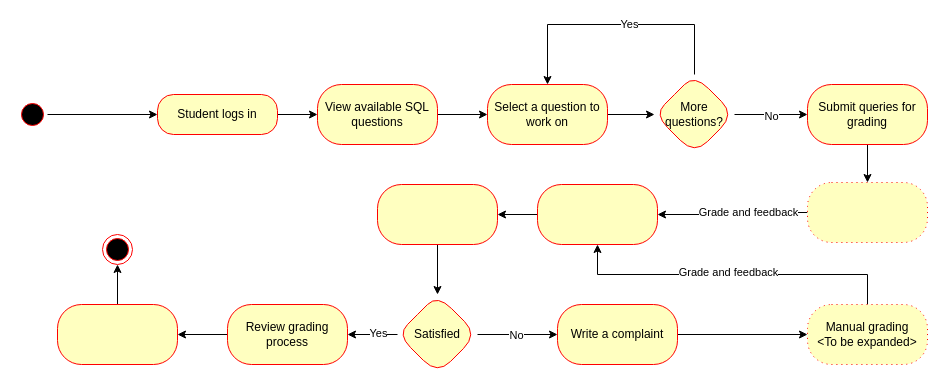
Image size: 945x392. Some labels were removed from this diagram. The shapes that lost their labels are listed below. From the top down, each one's centre as x and y in pixels, then its label:
pixel 437 214: Review grade and feedback given
pixel 597 214: Notify student of grading outcome
pixel 867 212: Grading <To be expanded>
pixel 117 334: Save review
